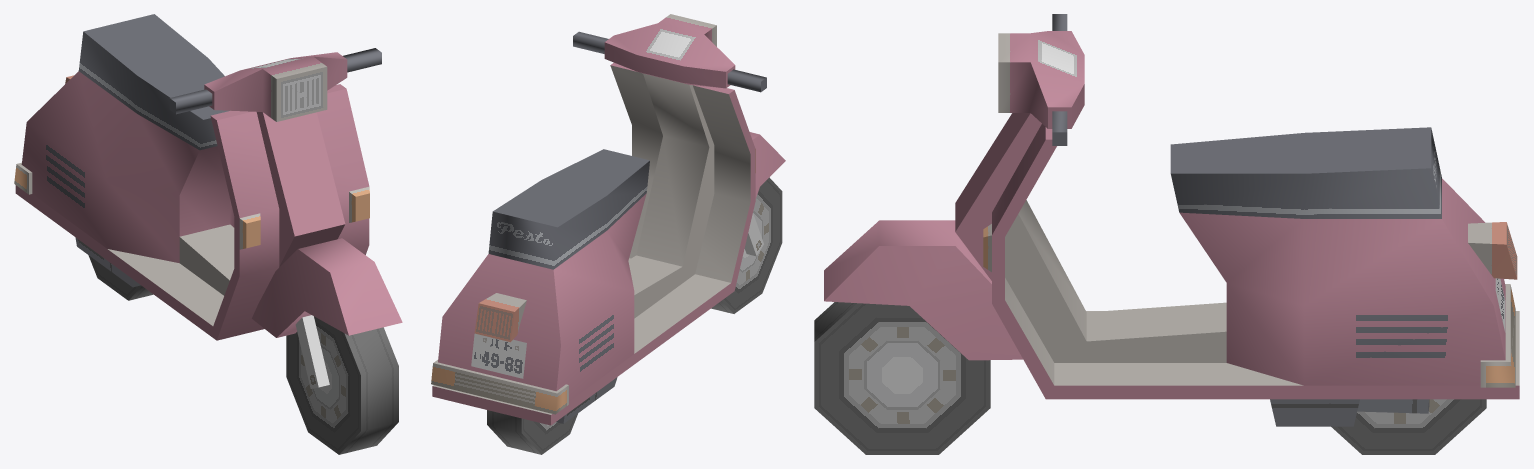
File: 0165_Scooter.glb
3 views of the same model, side by side, from view 1: azimuth 30°, elevation 25°; view 2: azimuth 150°, elevation 25°; view 3: azimuth 270°, elevation 25° (orthographic). The views are drawn at different scales.
Visible parts, largest first — view 1: part_0, part_1, part_2; view 2: part_0, part_1, part_2; view 3: part_0, part_1, part_2.
Boxes of the visible parts, x1=… form: part_0: x1=14, y1=14, x2=402, y2=388; part_1: x1=286, y1=316, x2=398, y2=454; part_2: x1=88, y1=255, x2=153, y2=300; part_0: x1=431, y1=14, x2=785, y2=425; part_1: x1=711, y1=177, x2=782, y2=313; part_2: x1=487, y1=410, x2=577, y2=454; part_0: x1=824, y1=14, x2=1519, y2=426; part_1: x1=814, y1=302, x2=990, y2=454; part_2: x1=1331, y1=399, x2=1486, y2=454.
Bounding box in the file's own units: 0.65 × 1.02 × 1.64.
3 materials, 3 textured.
